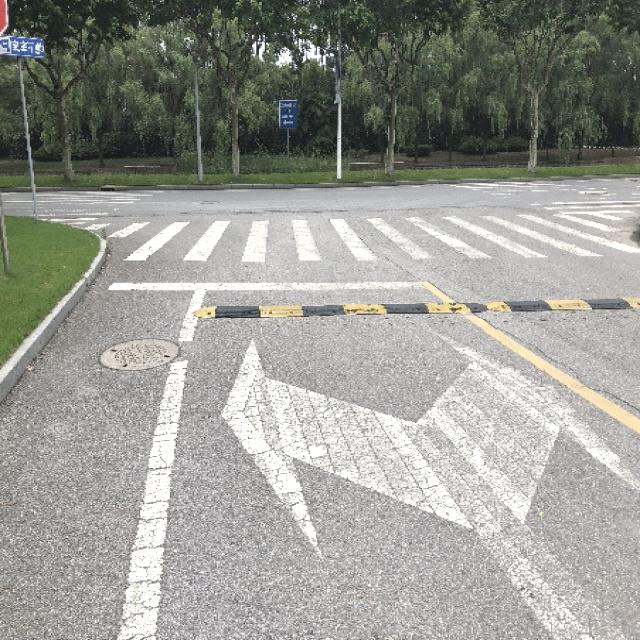Speed Bump: (195, 288, 636, 321)
